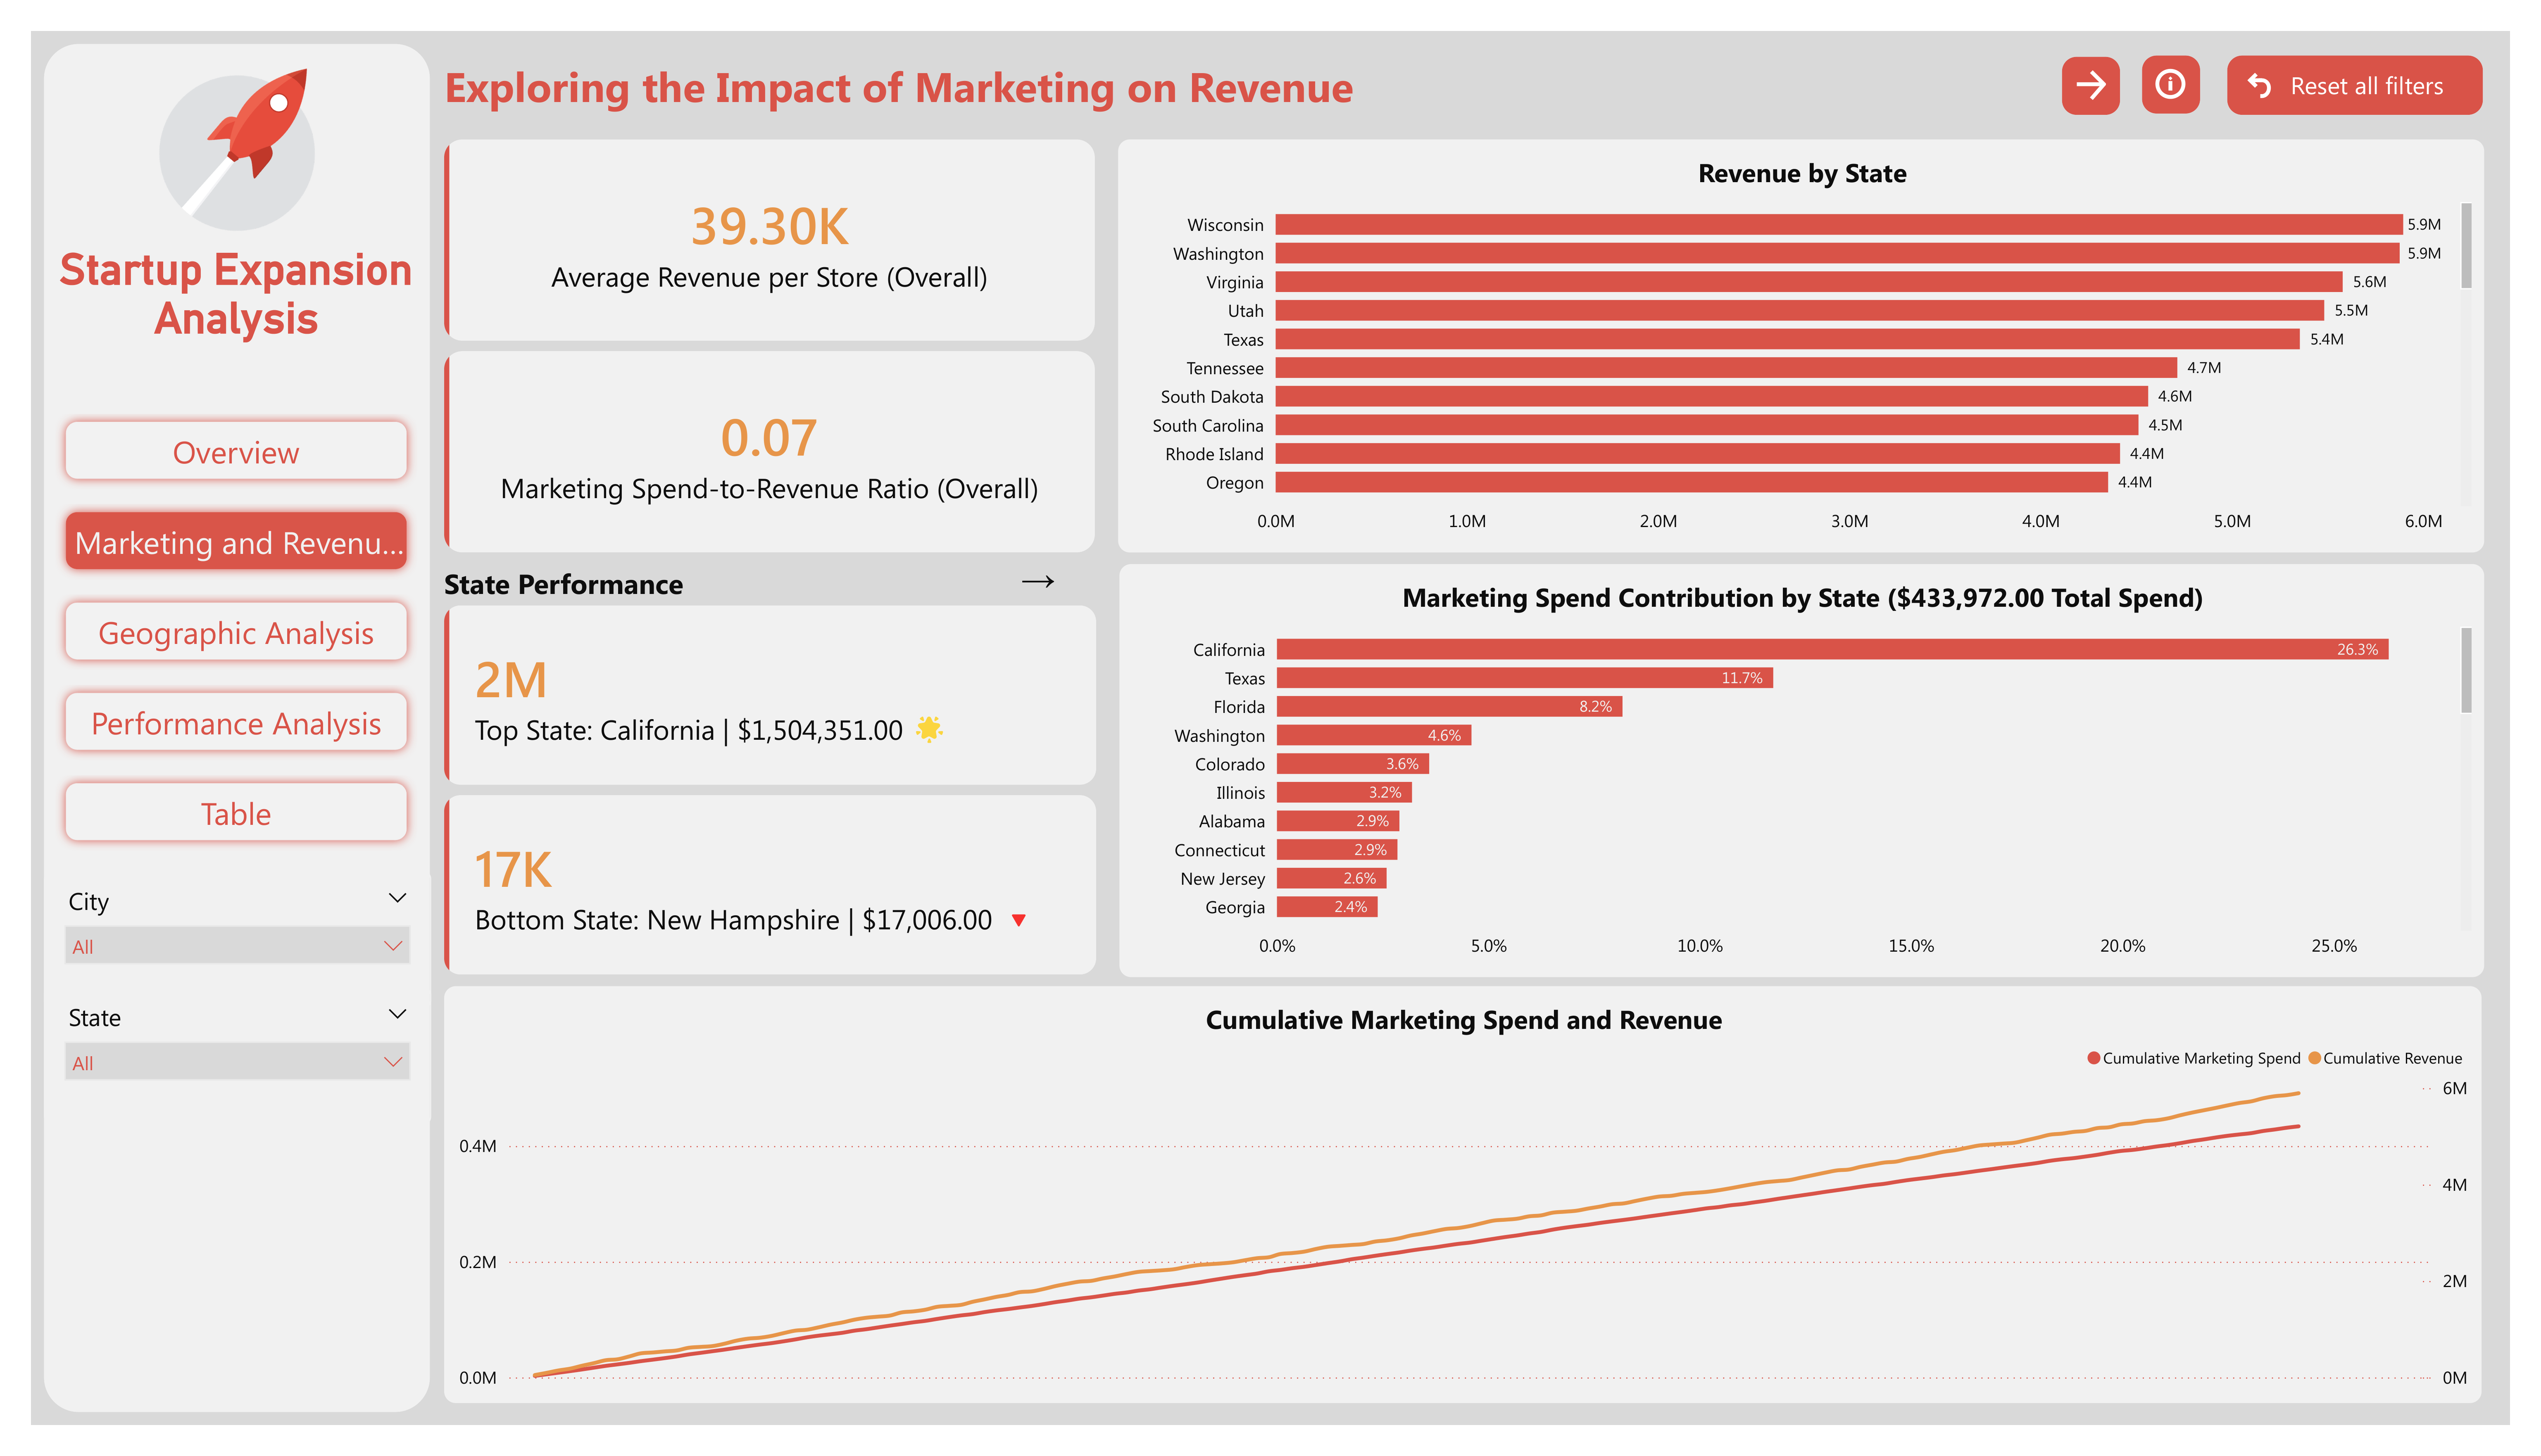

Layout of this report page (visuals, bound fields, positions):
{"tool":"powerbi","page":{"name":"Marketing and Revenue Insights","canvas":[1920,1080],"ordinal":1},"visuals":[{"type":"shape","box":[0,0,318.5,1079.6],"z":0},{"type":"image","box":[0,18.5,318.5,146.3],"z":1000},{"type":"actionButton","title":"reset button","box":[1701,19,198.1,46.3],"z":2000},{"type":"actionButton","title":"info button","box":[1635,19,45,45],"z":3000},{"type":"group","title":"Buttons Menu","box":[18.5,194.4,240,420.1],"z":4000},{"type":"pageNavigator","box":[9.3,285,300,364],"z":5000},{"type":"textbox","box":[9.3,164.8,300,87],"z":6000},{"type":"textbox","title":"Title","box":[320.4,20.4,711.1,85.2],"z":7000},{"type":"cardVisual","fields":{"Data":["All measures.Average Revenue per Store","All measures.Marketing Spend-to-Revenue Ratio"]},"box":[320,84,504,320],"z":8000},{"type":"barChart","fields":{"Y":["All measures.Cumulative Revenue by State"],"Category":["Sales.State"]},"box":[842,84,1058,320],"z":9000},{"type":"barChart","fields":{"Y":["All measures.Percentage Marketing Spend"],"Category":["Sales.State"]},"box":[842.5,412.5,1057.5,320],"z":10000},{"type":"lineChart","fields":{"Y":["All measures.Cumulative Marketing Spend"],"Category":["Sales.Store ID"],"Y2":["All measures.Cumulative Revenue"]},"box":[320,740,1577.5,322.5],"z":11000},{"type":"cardVisual","fields":{"Data":["All measures.Top State Revenue","All measures.Bottom State Revenue"]},"box":[320,412.5,505,320],"z":12000},{"type":"card","fields":{"Values":["All measures.State Performance Icon"]},"box":[735,405,90,37.5],"z":13000},{"type":"actionButton","title":"info button","box":[1572.5,20,45,45],"z":14000},{"type":"slicer","fields":{"Values":["Sales.City"]},"box":[10,650,300,107.5],"z":15000},{"type":"slicer","fields":{"Values":["Sales.State"]},"box":[10,740,300,107.5],"z":16000}]}

Visuals, with their boxes in screenshot pixels (x1, y1, x2, y2):
shape: l=31, t=31, r=442, b=1425
image: l=31, t=55, r=442, b=244
"reset button" actionButton: l=2227, t=55, r=2483, b=115
"info button" actionButton: l=2142, t=55, r=2200, b=114
"Buttons Menu" group: l=55, t=282, r=365, b=824
pageNavigator: l=43, t=399, r=431, b=869
textbox: l=43, t=244, r=431, b=356
"Title" textbox: l=445, t=57, r=1363, b=167
cardVisual - All measures.Average Revenue per Store x All measures.Marketing Spend-to-Revenue Ratio: l=444, t=140, r=1095, b=553
barChart - All measures.Cumulative Revenue by State x Sales.State: l=1118, t=140, r=2484, b=553
barChart - All measures.Percentage Marketing Spend x Sales.State: l=1119, t=563, r=2484, b=976
lineChart - All measures.Cumulative Marketing Spend x Sales.Store ID: l=444, t=986, r=2481, b=1402
cardVisual - All measures.Top State Revenue x All measures.Bottom State Revenue: l=444, t=563, r=1096, b=976
card - All measures.State Performance Icon: l=980, t=554, r=1096, b=602
"info button" actionButton: l=2061, t=57, r=2120, b=115
slicer - Sales.City: l=44, t=870, r=431, b=1009
slicer - Sales.State: l=44, t=986, r=431, b=1125
